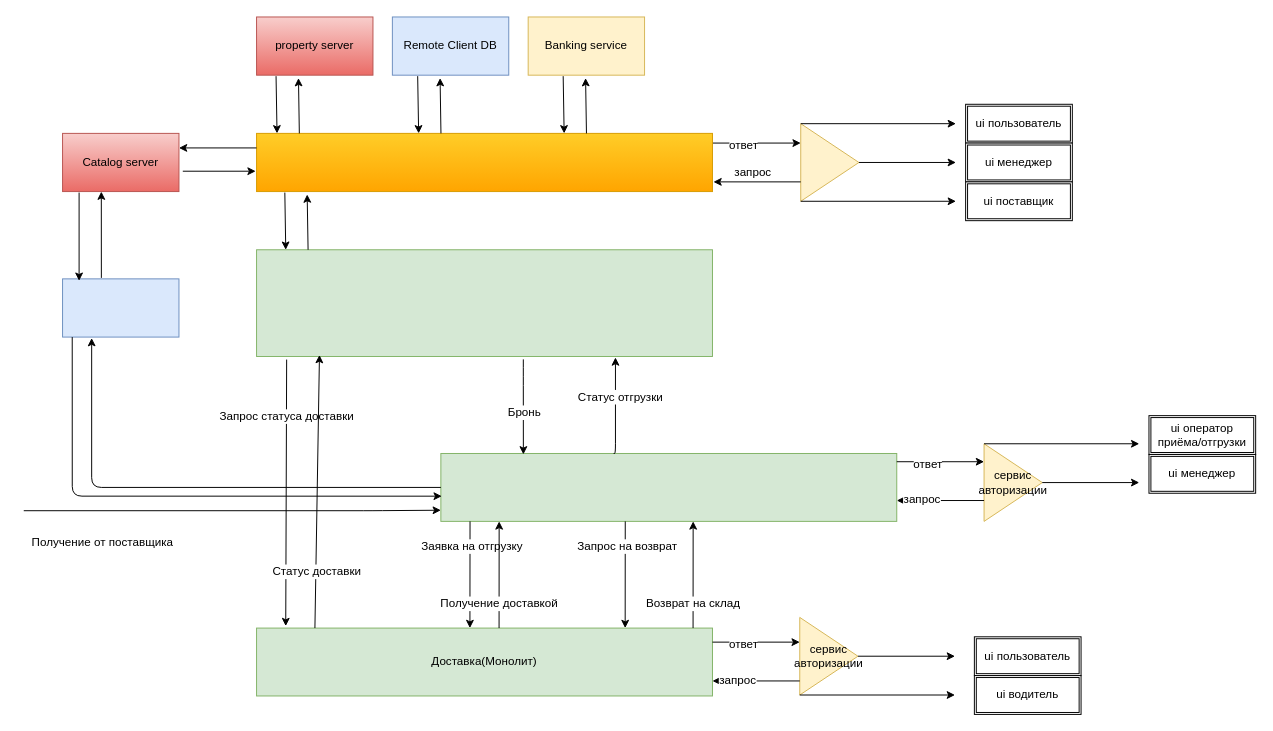
The diagram is 1273 pixels wide and 731 high, and some of its shapes have lost their labels. The shapes that lost their labels are listed below. From the top down, each one's centre as x and y in pixels, then its label:
pixel 484 162: API Gateway
pixel 829 162: authorization service
pixel 120 307: Remote Product DB
pixel 484 302: Магазин
pixel 668 487: Склад(Монолит)
